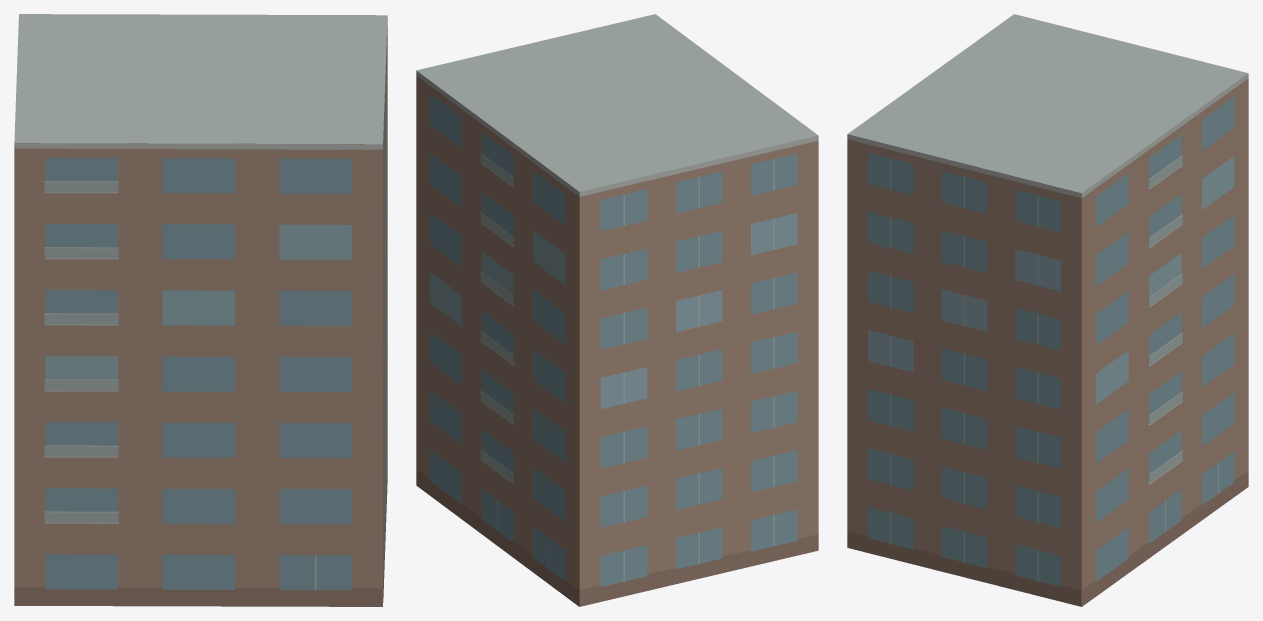
Rendered from survey-upis-32939169.glb.
3 views of the same model, side by side, from view 1: azimuth 30°, elevation 25°; view 2: azimuth 150°, elevation 25°; view 3: azimuth 270°, elevation 25° (orthographic). The views are drawn at different scales.
Parts seen in each view (by area): view 1: survey-upis-32939169.tmp; view 2: survey-upis-32939169.tmp; view 3: survey-upis-32939169.tmp.
Boxes of the visible parts, x1=… form: survey-upis-32939169.tmp: x1=14, y1=14, x2=387, y2=606; survey-upis-32939169.tmp: x1=416, y1=14, x2=818, y2=606; survey-upis-32939169.tmp: x1=847, y1=14, x2=1248, y2=606.
Bounding box in the file's own units: 18.74 × 20.15 × 17.72.
